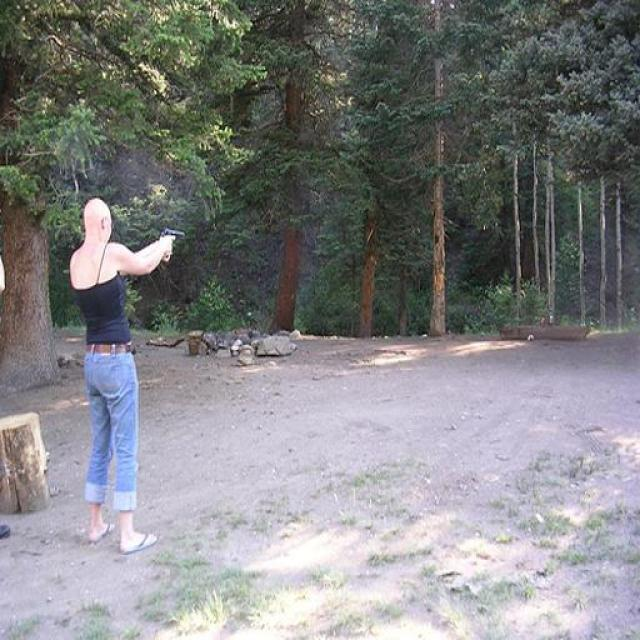pistol: (160, 222, 186, 255)
